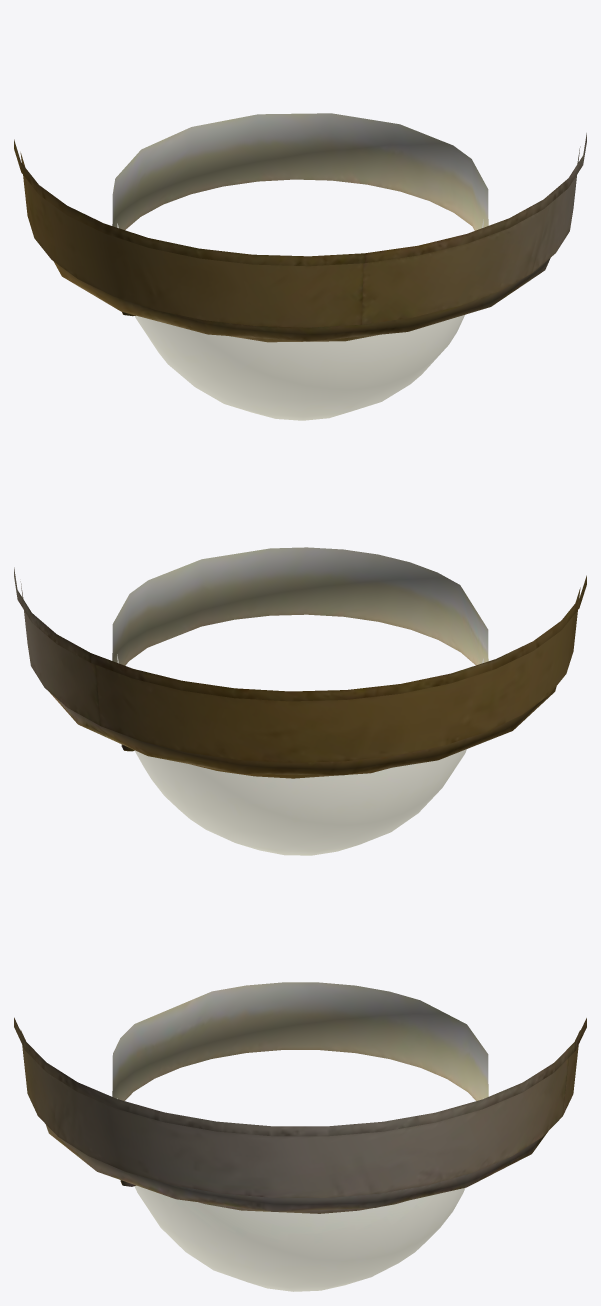
File: ceiling-lamp.glb
3 renders of one model, top to bottom at view 1: azimuth 30°, elevation 25°; view 2: azimuth 150°, elevation 25°; view 3: azimuth 270°, elevation 25°, orthographic.
Parts seen in each view (by area): view 1: body, dome; view 2: body, dome; view 3: body, dome.
Boxes of the visible parts, left/top/right/bottom form: body: left=14, top=113, right=586, bottom=342; dome: left=117, top=219, right=483, bottom=420; body: left=14, top=547, right=586, bottom=778; dome: left=117, top=654, right=483, bottom=855; body: left=14, top=982, right=586, bottom=1213; dome: left=117, top=1098, right=483, bottom=1291.
Bounding box in the file's own units: 0.4186 × 0.2173 × 0.4186.
Materials: 2 (2 with a texture image).
